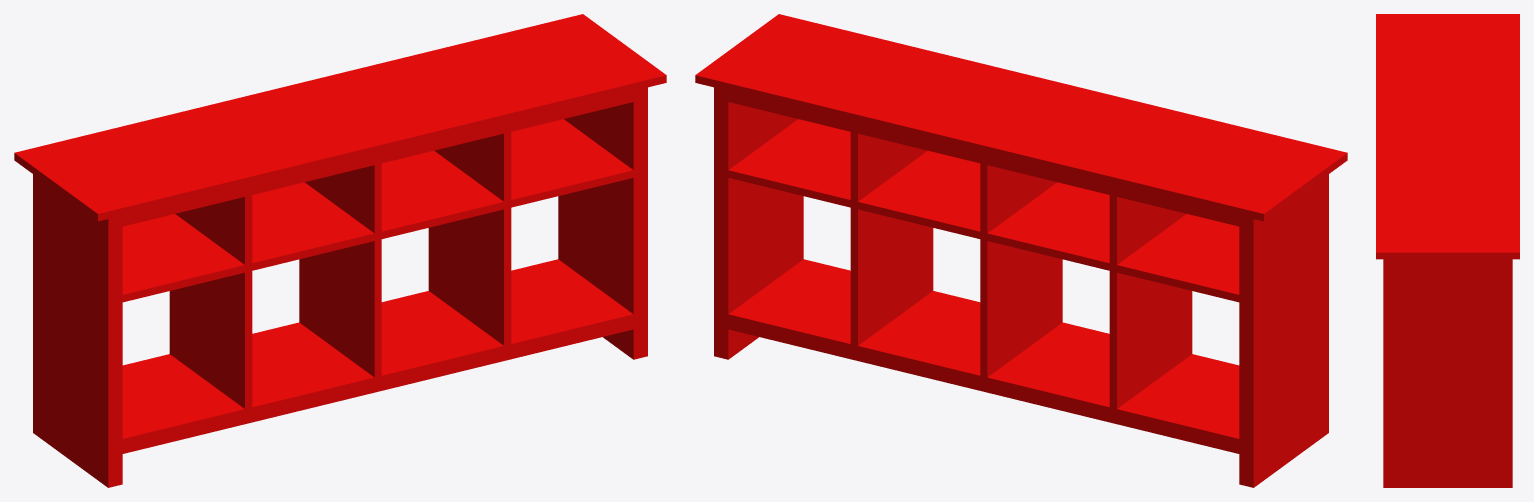
Rendered from HEMNES_Console.obj.
3 views of the same model, side by side, from view 1: azimuth 30°, elevation 25°; view 2: azimuth 150°, elevation 25°; view 3: azimuth 270°, elevation 25° (orthographic). The views are drawn at different scales.
Parts seen in each view (by area): view 1: Generic_Models; view 2: Generic_Models; view 3: Generic_Models.
Boxes of the visible parts, x1,y1,x2,y2 form: Generic_Models: (14,14,666,487); Generic_Models: (695,14,1347,487); Generic_Models: (1376,14,1519,487).
Size of the model in its own units: 1570 by 740 by 400.
